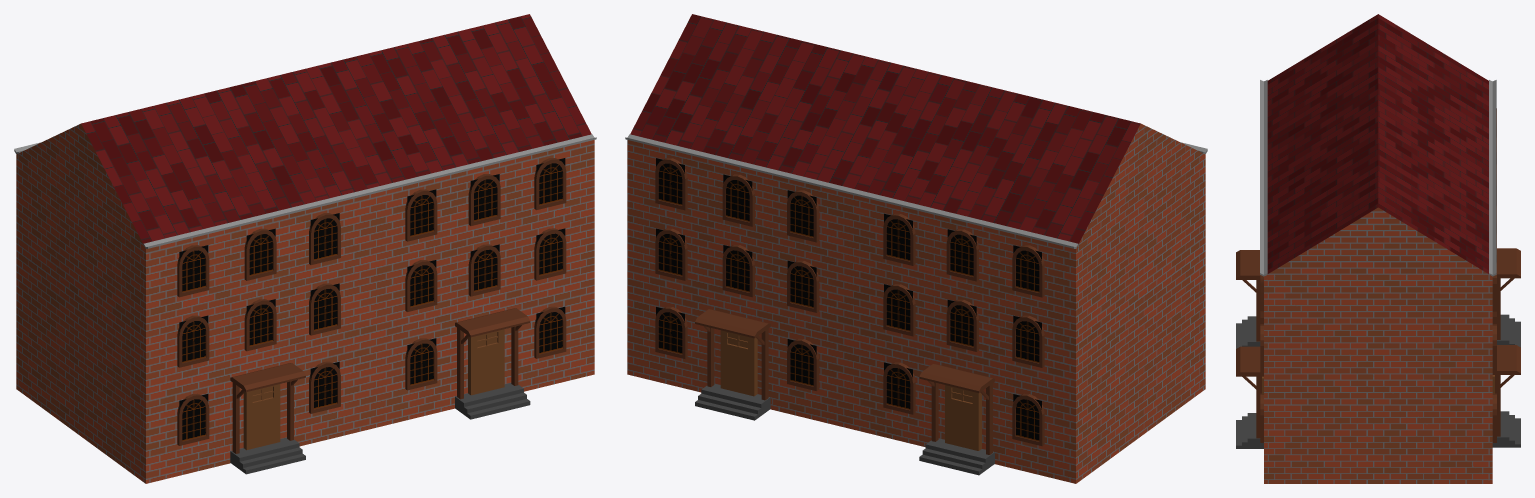
Rendered from Straight Building.fbx.
3 renders of one model, left to right at view 1: azimuth 30°, elevation 25°; view 2: azimuth 150°, elevation 25°; view 3: azimuth 270°, elevation 25°, orthographic. The views are drawn at different scales.
Parts seen in each view (by area): view 1: Walls.005, Roof.005, Door.008, Door.009, gutter.015, Window.155, Window.158, Window.165, Window.163, Window.151, Window.154, Window.073 (+25 smaller); view 2: Walls.005, Roof.005, Door.010, Door.011, gutter.016, Window.143, Window.145, Window.138, Window.141, Window.136, Window.148, Window.135 (+25 smaller); view 3: Walls.005, Roof.005, Door.009, Door.010, Door.008, Door.011, gutter.015, gutter.016.
Boxes of the visible parts, left/top/right/bottom form: Walls.005: left=16, top=123, right=594, bottom=483; Roof.005: left=81, top=14, right=591, bottom=244; Door.008: left=230, top=363, right=305, bottom=474; Door.009: left=455, top=308, right=530, bottom=419; gutter.015: left=143, top=134, right=596, bottom=248; Window.155: left=310, top=213, right=339, bottom=260; Window.158: left=407, top=338, right=436, bottom=385; Window.165: left=470, top=244, right=499, bottom=291; Window.163: left=470, top=174, right=499, bottom=221; Window.151: left=179, top=394, right=208, bottom=441; Window.154: left=246, top=299, right=275, bottom=346; Window.073: left=536, top=306, right=565, bottom=353; Walls.005: left=627, top=123, right=1205, bottom=483; Roof.005: left=630, top=14, right=1140, bottom=244; Door.010: left=695, top=309, right=770, bottom=420; Door.011: left=919, top=364, right=994, bottom=475; gutter.016: left=625, top=134, right=1078, bottom=248; Window.143: left=884, top=362, right=912, bottom=409; Window.145: left=884, top=284, right=912, bottom=331; Window.138: left=656, top=228, right=684, bottom=275; Window.141: left=656, top=158, right=684, bottom=205; Window.136: left=656, top=307, right=684, bottom=354; Window.148: left=884, top=213, right=912, bottom=260; Window.135: left=787, top=339, right=816, bottom=386; Walls.005: left=1264, top=207, right=1492, bottom=483; Roof.005: left=1267, top=14, right=1488, bottom=273; Door.009: left=1236, top=346, right=1263, bottom=448; Door.010: left=1492, top=345, right=1520, bottom=447; Door.008: left=1236, top=250, right=1260, bottom=348; Door.011: left=1497, top=248, right=1520, bottom=347; gutter.015: left=1260, top=80, right=1267, bottom=276; gutter.016: left=1489, top=80, right=1496, bottom=276.
Bounding box in the file's own units: 1200 × 800 × 746.
8 materials, 3 textured.
